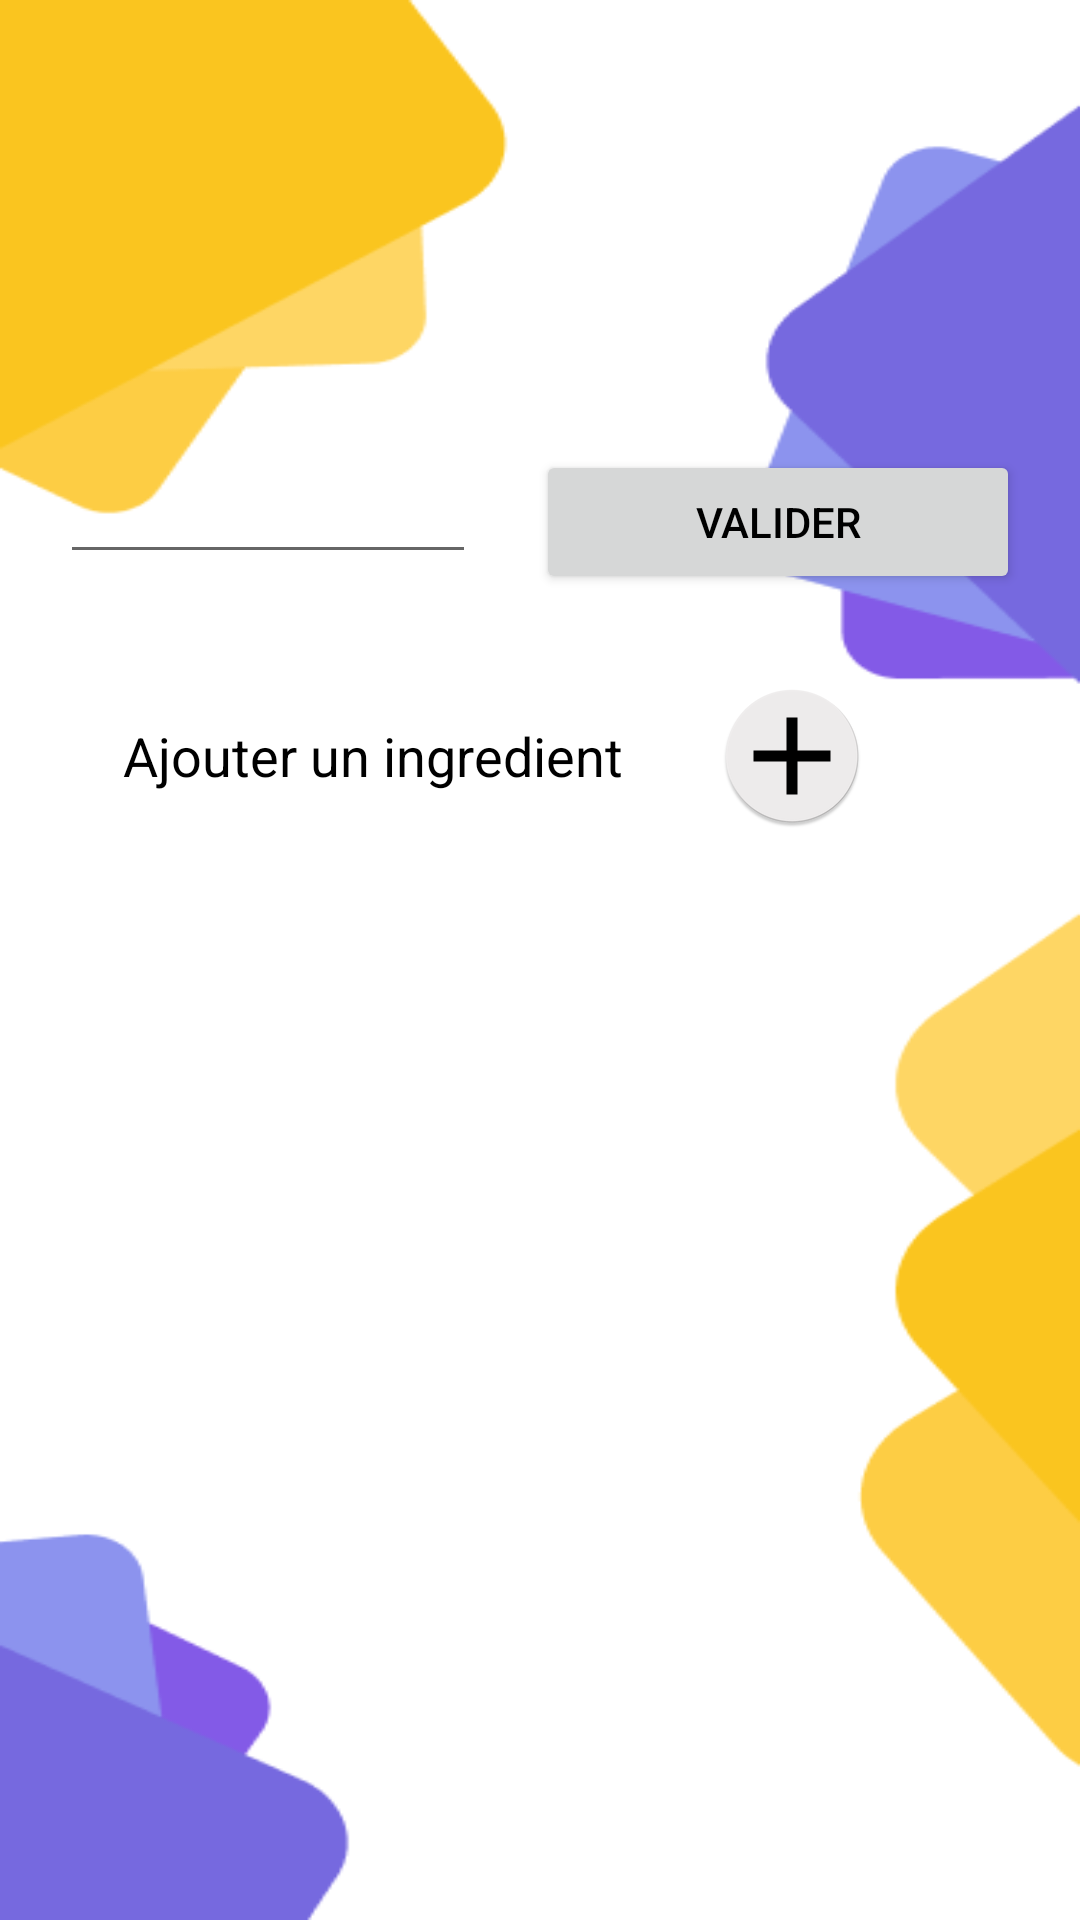

Named icons in this screenshot (1080*1920) and their centers, (x,y):
add: (792,767)
